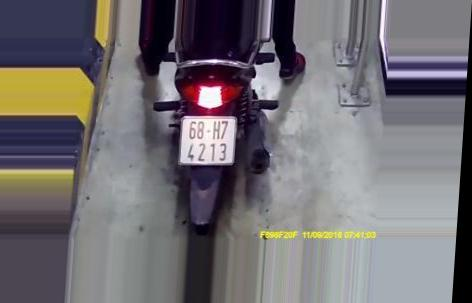License_Plate: (171, 113, 243, 168)
